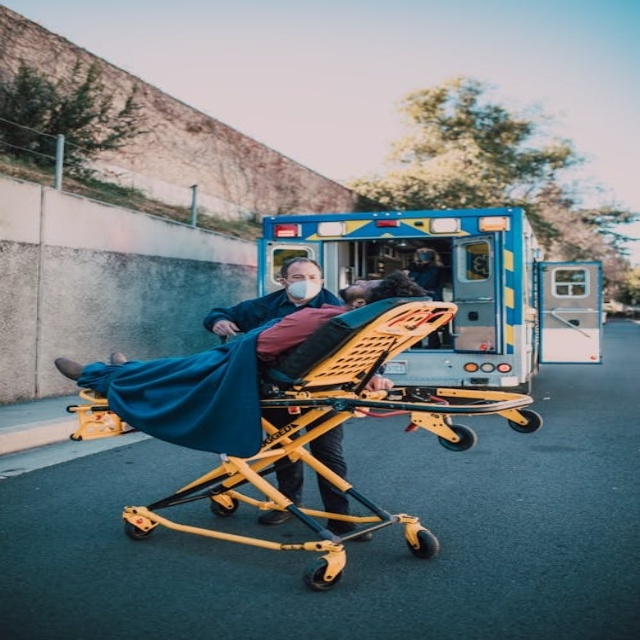Mascara: (286, 279, 323, 300), (417, 253, 433, 262)
Sin_gafas: (284, 271, 326, 280)
Sin_guantes: (362, 374, 393, 392)
